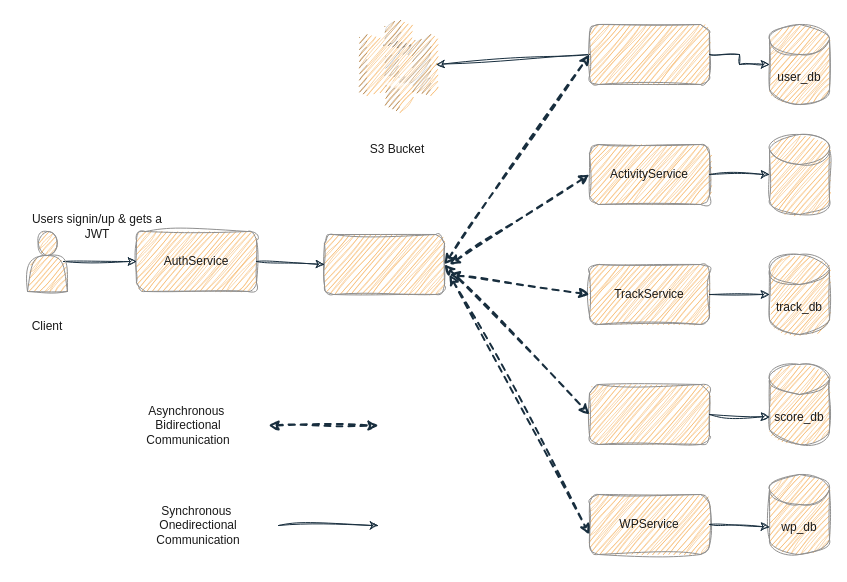
Image size: 847x582. Some labels were removed from this diagram. Here are the shapes that lost their labels. From the top down, the box of each, then its label:
(588, 24, 710, 84): UserService
(768, 134, 830, 214): act_db
(324, 234, 444, 294): Gateway
(588, 384, 710, 444): ScoreService
